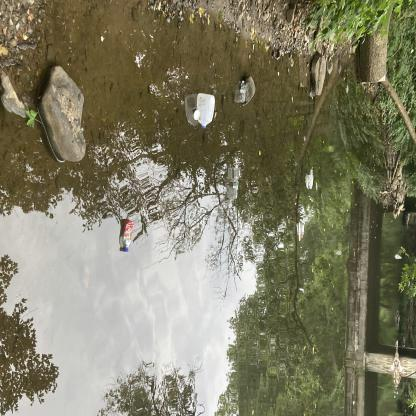Plastic: (193, 90, 219, 132), (116, 217, 139, 258), (238, 80, 247, 104)
